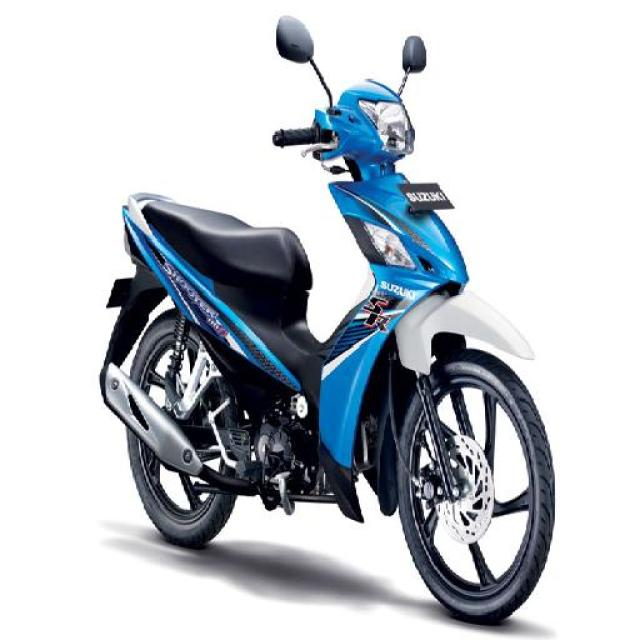All: (97, 15, 568, 623)
Head: (272, 75, 422, 173)
Tail: (110, 187, 180, 264)
